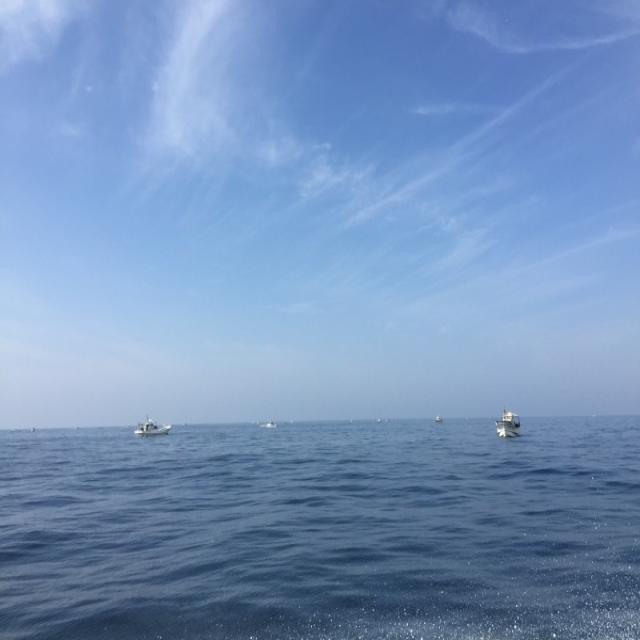houseboat: (493, 404, 523, 442), (132, 414, 172, 438)
